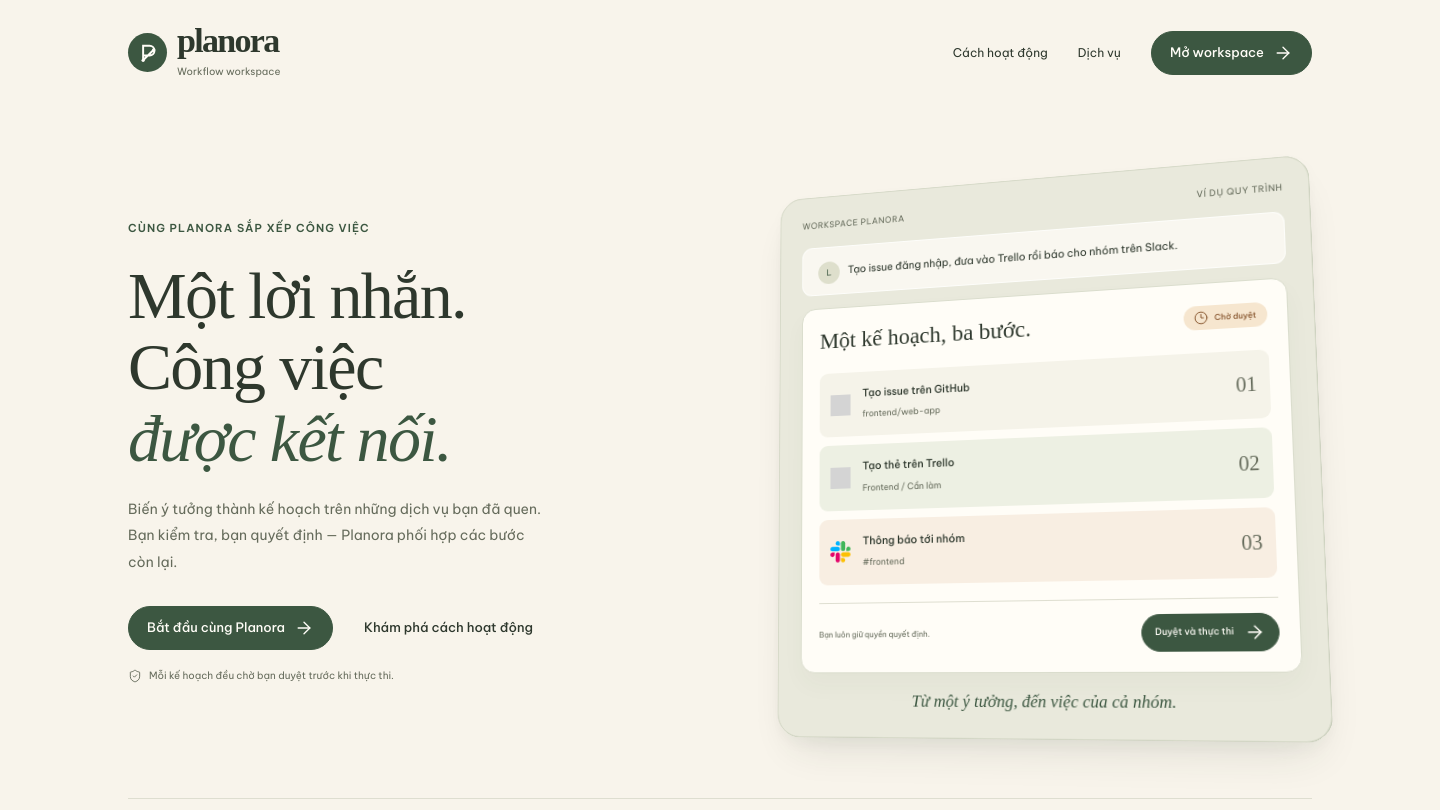
Test: public and workspace navigation › keeps root public with a working workspace CTA for a stored session
Click the button "Mở workspace" at (1231, 53), box [1151, 31, 1312, 75]
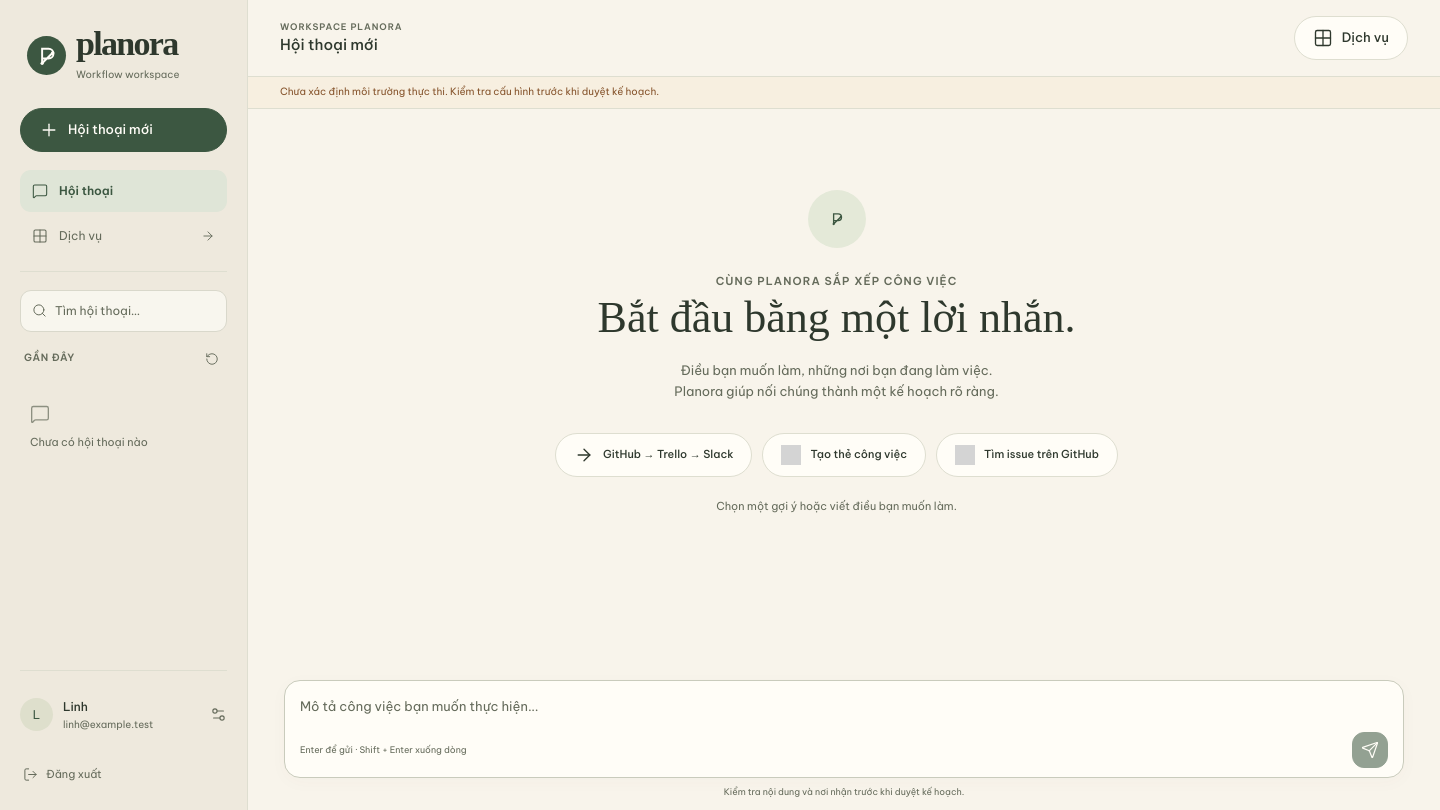
Check: the button "Hội thoại mới" is shown, box [20, 108, 227, 152]
